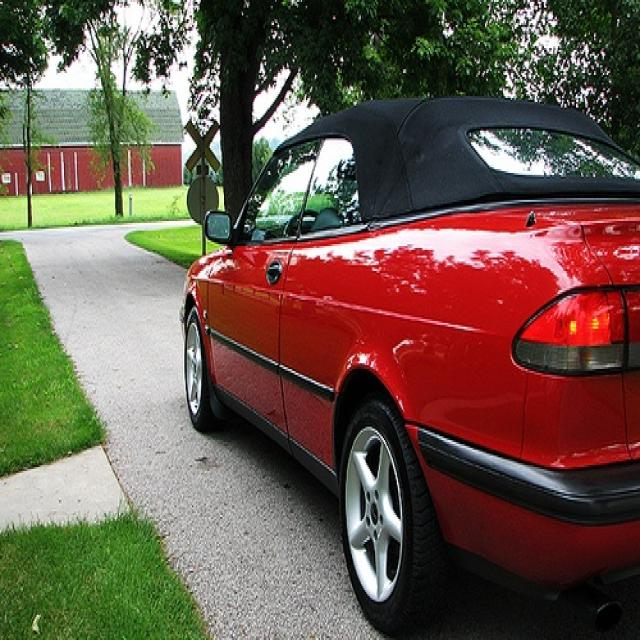car: (179, 94, 639, 632)
